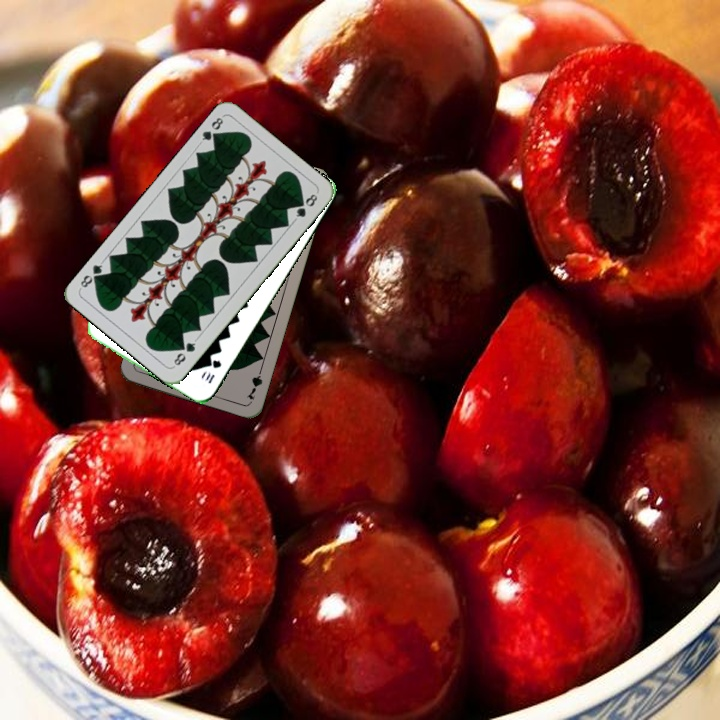G10: (200, 355, 224, 386)
G7: (243, 363, 265, 402)
G8: (195, 112, 226, 146), (169, 335, 199, 369)
